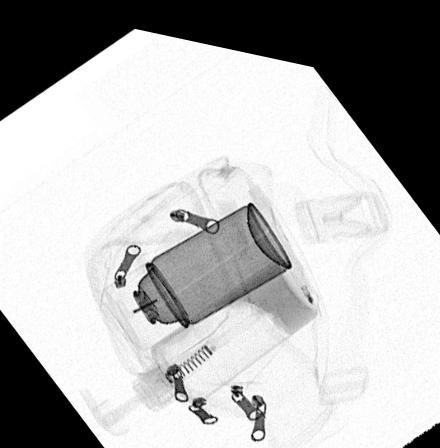Sprayer: (101, 188, 295, 347)
